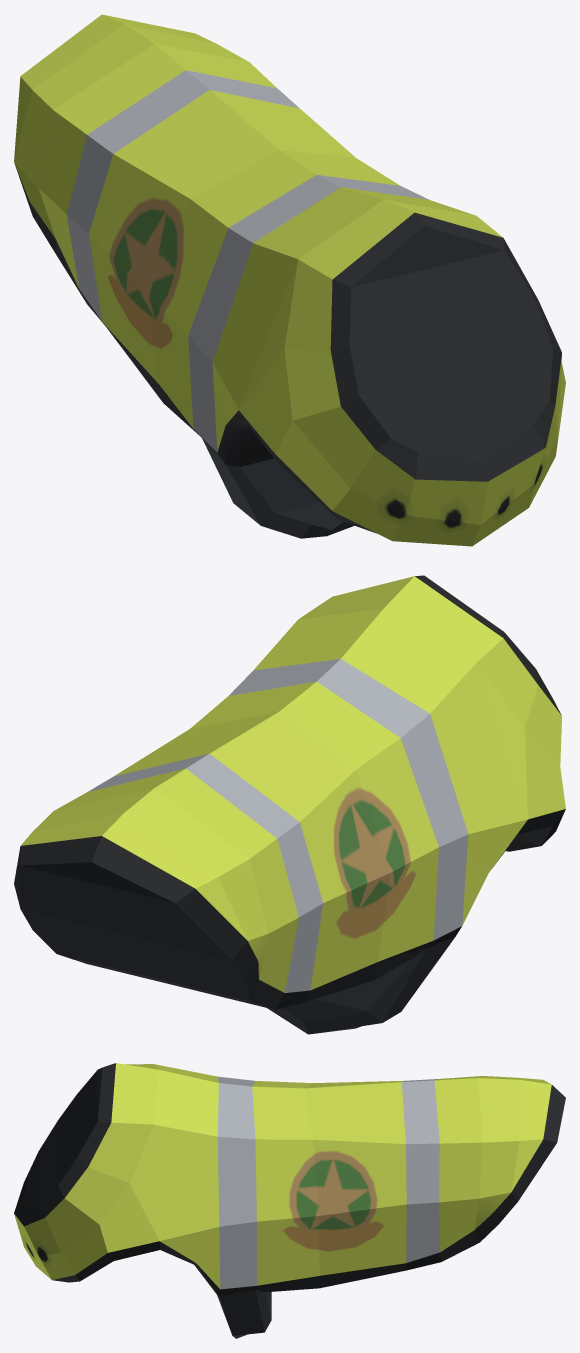
File: SK_Chr_Attach_Vest_HighVis_Medium_01.fbx
The picture shows the model from 3 angles, top to bottom: view 1: azimuth 30°, elevation 25°; view 2: azimuth 150°, elevation 25°; view 3: azimuth 270°, elevation 25°; orthographic projection. The views are drawn at different scales.
Parts seen in each view (by area): view 1: SK_Chr_Attach_Vest_HighVis_Medium_01; view 2: SK_Chr_Attach_Vest_HighVis_Medium_01; view 3: SK_Chr_Attach_Vest_HighVis_Medium_01.
Boxes of the visible parts, box(x1,y1,x2,y2) form: SK_Chr_Attach_Vest_HighVis_Medium_01: box(14, 14, 565, 546); SK_Chr_Attach_Vest_HighVis_Medium_01: box(14, 575, 565, 1034); SK_Chr_Attach_Vest_HighVis_Medium_01: box(14, 1063, 565, 1338).
Size of the model in its own units: 32.28 by 41.12 by 76.15.
